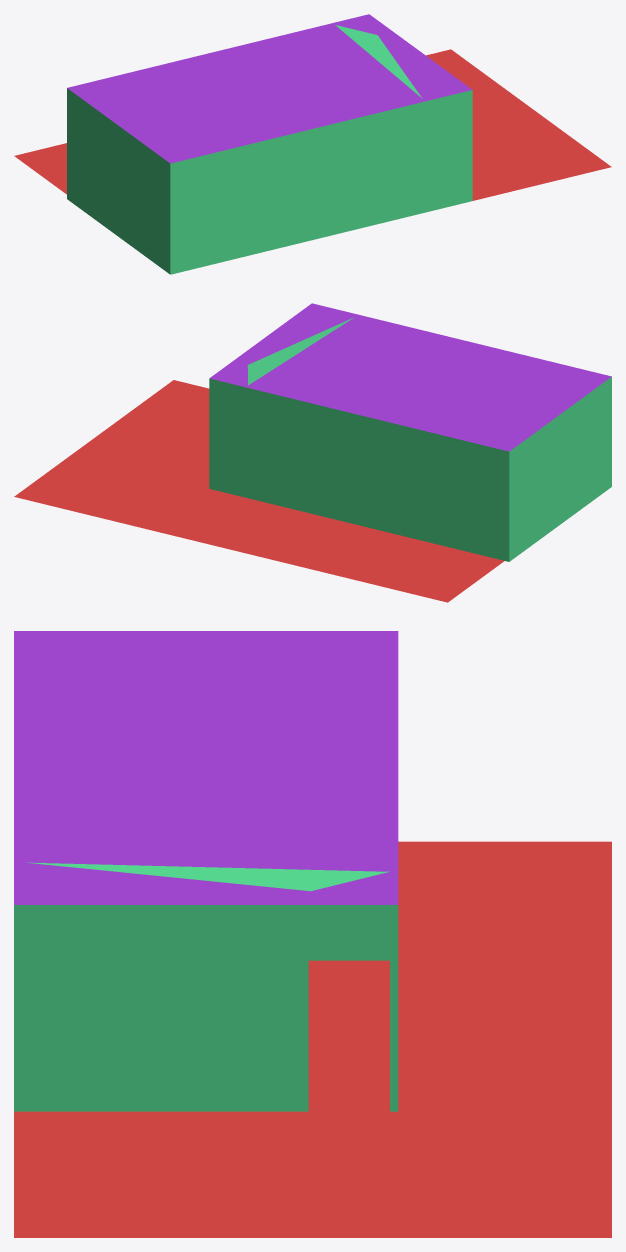
Rendered from Pièce3.fbx.
The picture shows the model from 3 angles, top to bottom: view 1: azimuth 30°, elevation 25°; view 2: azimuth 150°, elevation 25°; view 3: azimuth 270°, elevation 25°; orthographic projection. The views are drawn at different scales.
Parts seen in each view (by area): view 1: Cube; view 2: Cube; view 3: Cube.
Part boxes in pixels (bbox=[...]): Cube: bbox=[14, 14, 611, 274]; Cube: bbox=[14, 303, 611, 602]; Cube: bbox=[14, 631, 611, 1237].
Size of the model in its own units: 1998 by 481 by 1261.
